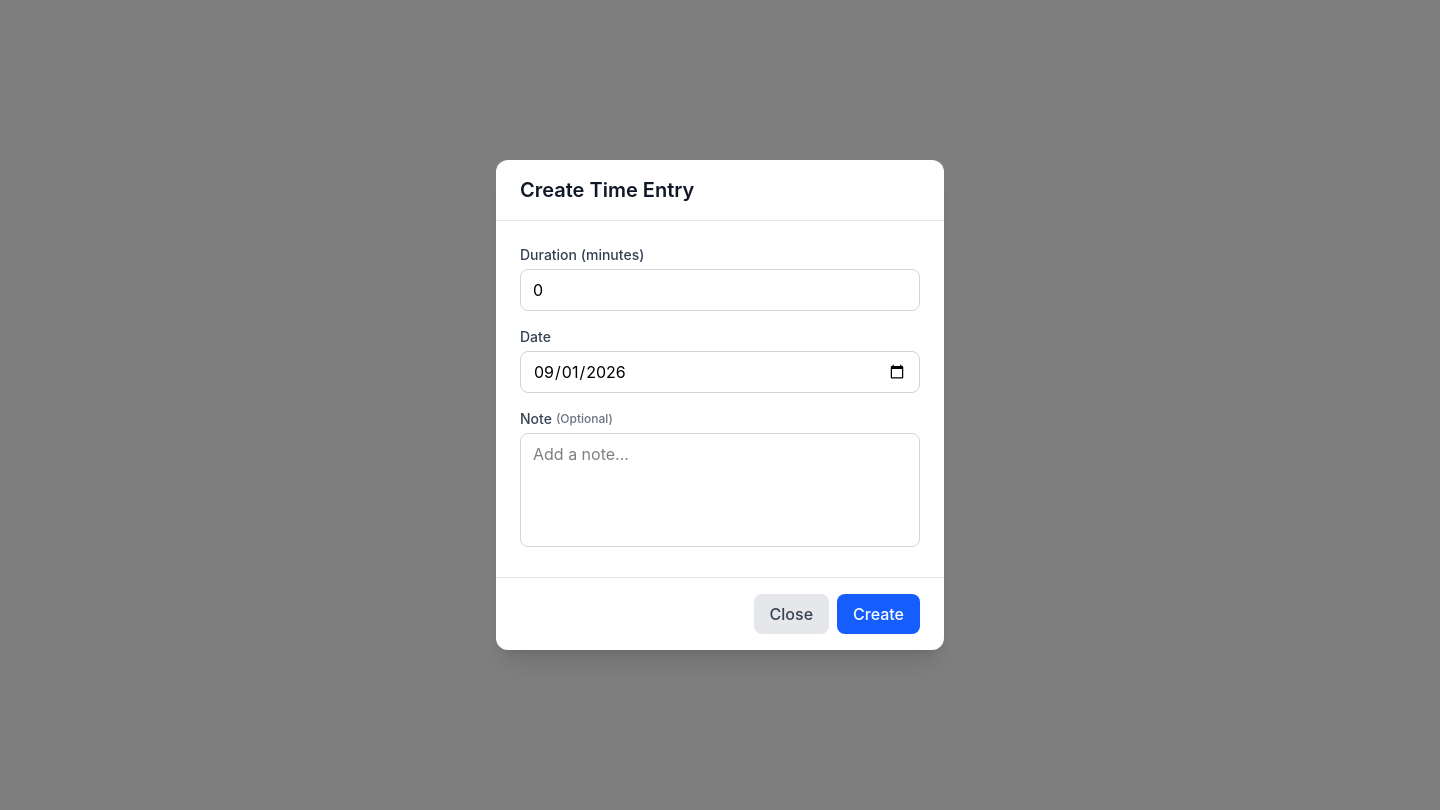
Test: TimeEntryManageModal › validation › should display validation errors when duration is missing
Click the button "Create". click: (878,614)
box: [837,594,920,634]
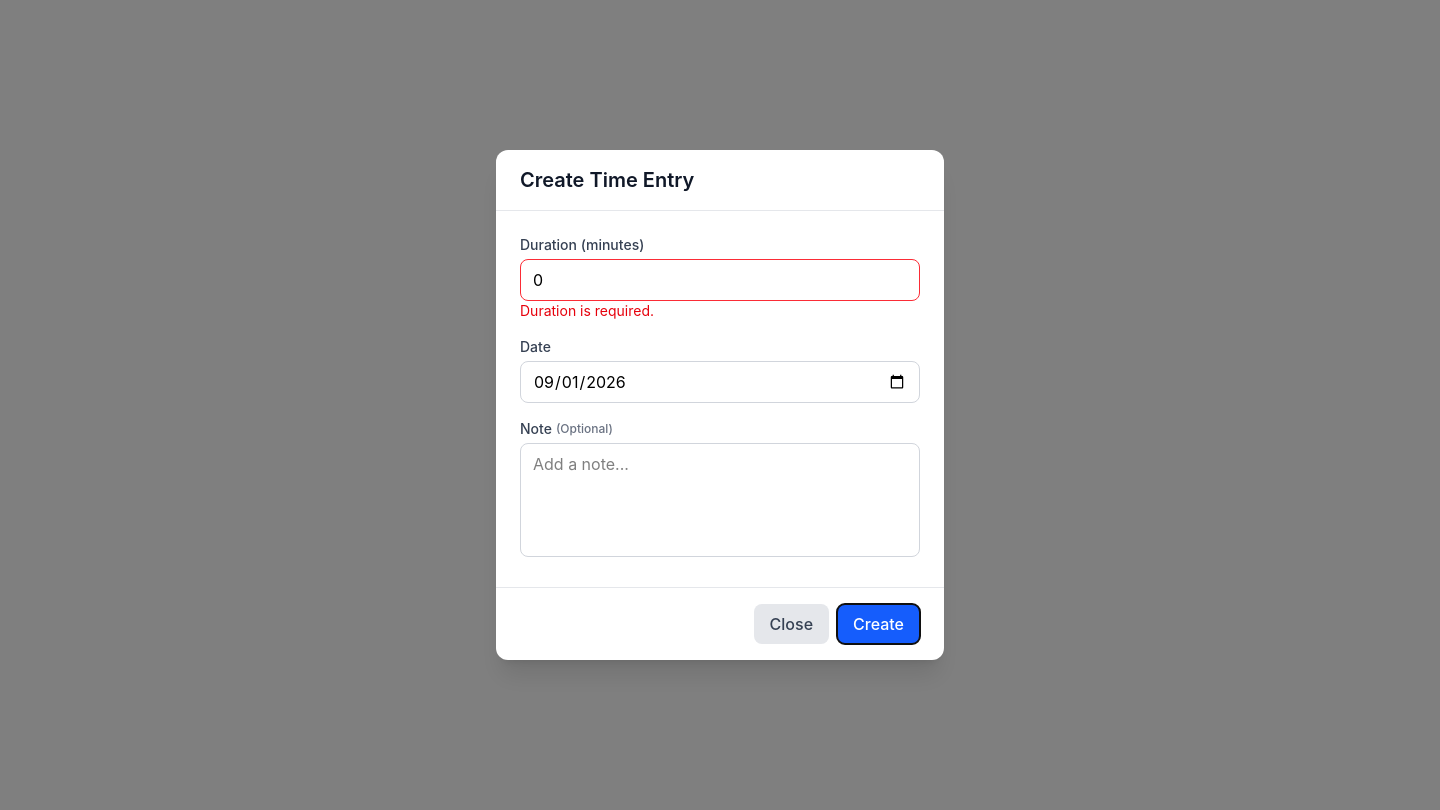
Result: the text "Duration is required." is shown at [520,302,654,319]
